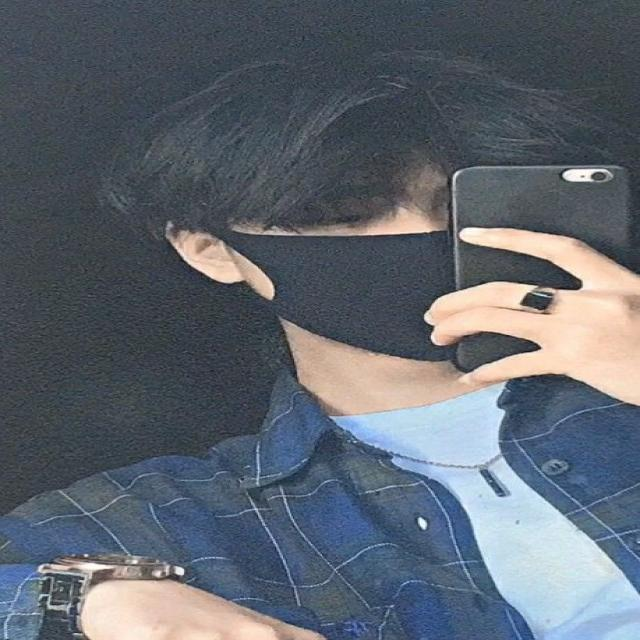phone: (446, 164, 640, 373)
